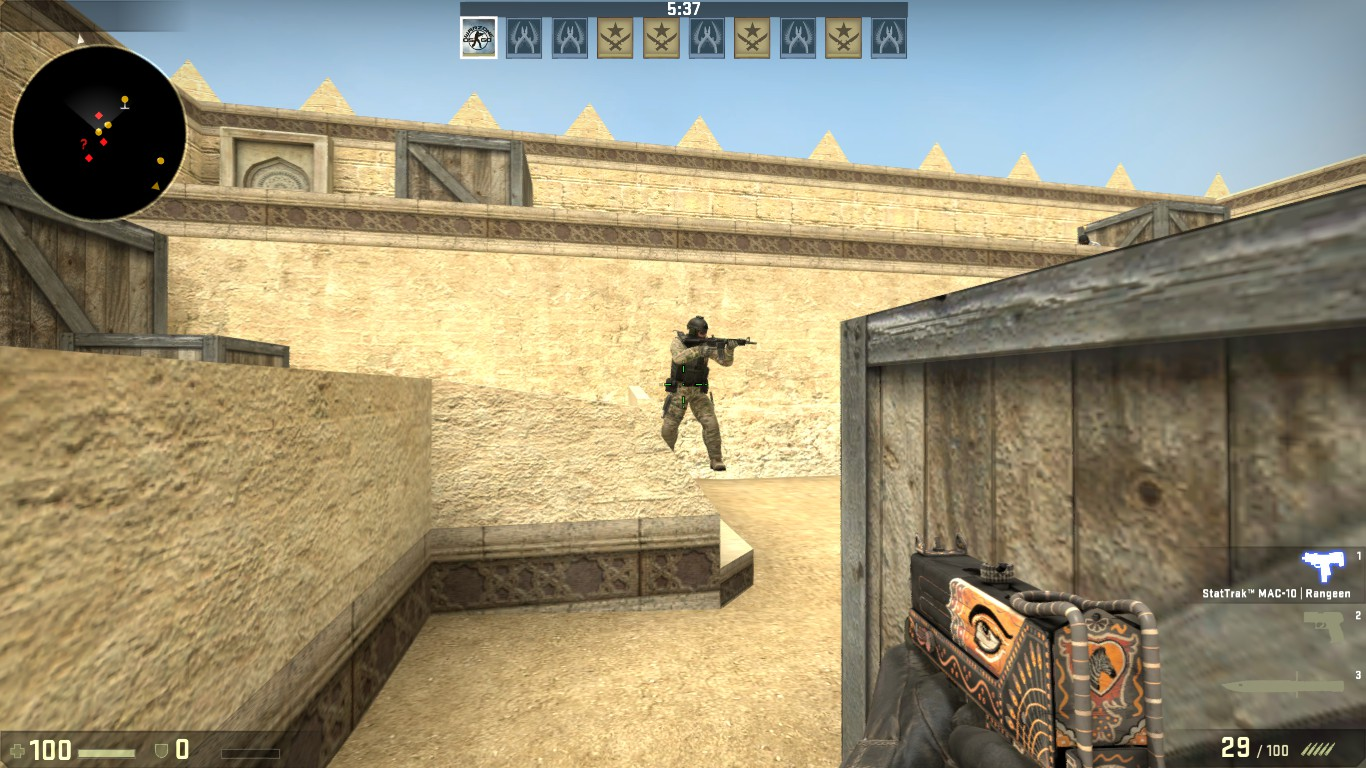c: (660, 315, 725, 469)
ch: (685, 314, 713, 342)
